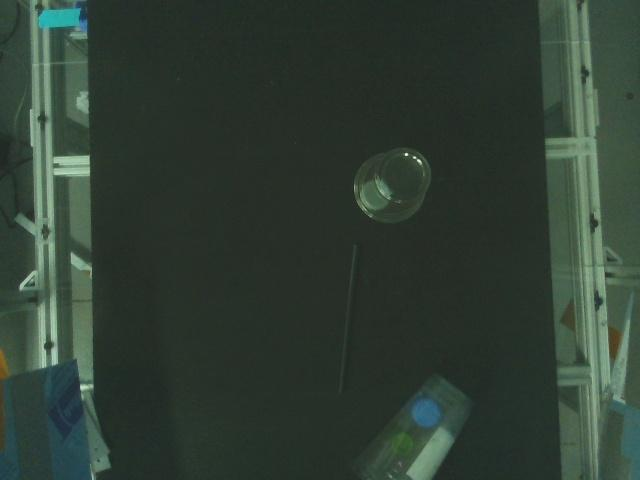plastic: (354, 374, 474, 480), (353, 145, 429, 224), (338, 243, 361, 394), (411, 399, 442, 429), (362, 181, 392, 211), (393, 433, 417, 459)
